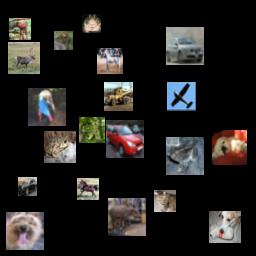airplane: (167, 82, 196, 111)
automobile: (166, 27, 204, 65), (106, 120, 144, 158), (18, 177, 37, 196)
bird: (28, 88, 66, 126)
cat: (154, 190, 176, 212)
deer: (108, 198, 146, 236), (8, 42, 40, 74), (9, 18, 31, 40), (54, 31, 73, 50)
dog: (6, 212, 44, 250), (212, 130, 247, 165), (209, 211, 241, 243)
frog: (166, 137, 204, 175), (44, 131, 76, 163), (79, 117, 105, 143), (82, 14, 101, 33)
truck: (104, 82, 133, 111)
